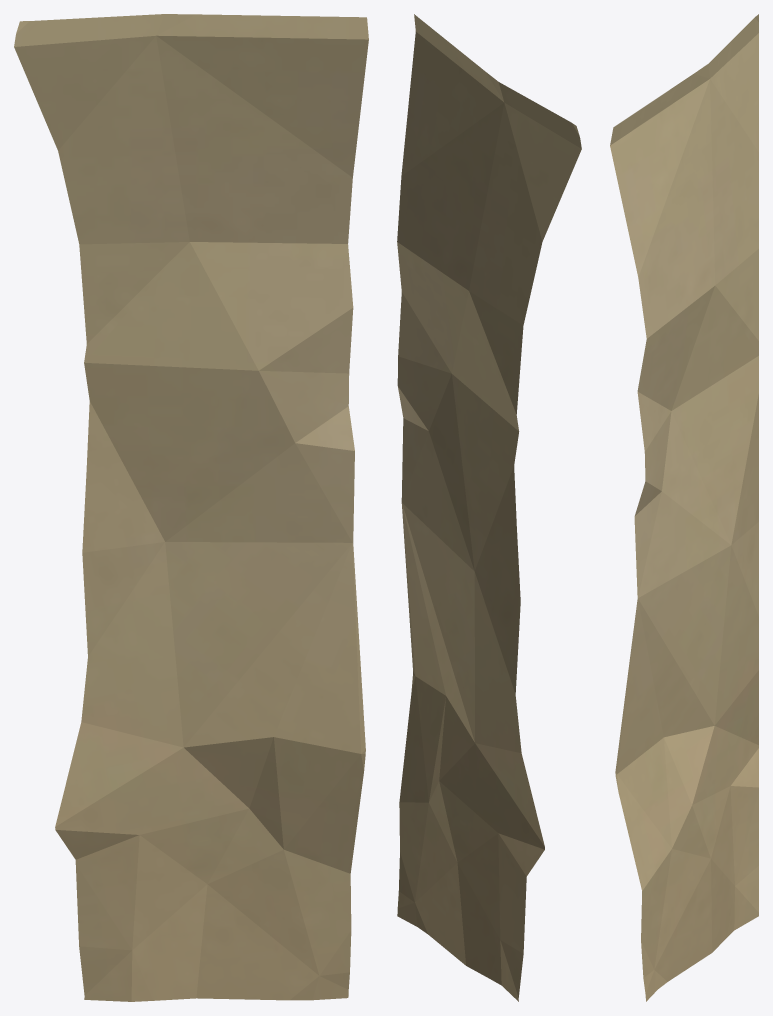
3 views of the same model, side by side, from view 1: azimuth 30°, elevation 25°; view 2: azimuth 150°, elevation 25°; view 3: azimuth 270°, elevation 25° (orthographic). The views are drawn at different scales.
Bounding box in the file's own units: 0.2381 × 0.8374 × 0.1293.
1 material, 1 textured.
